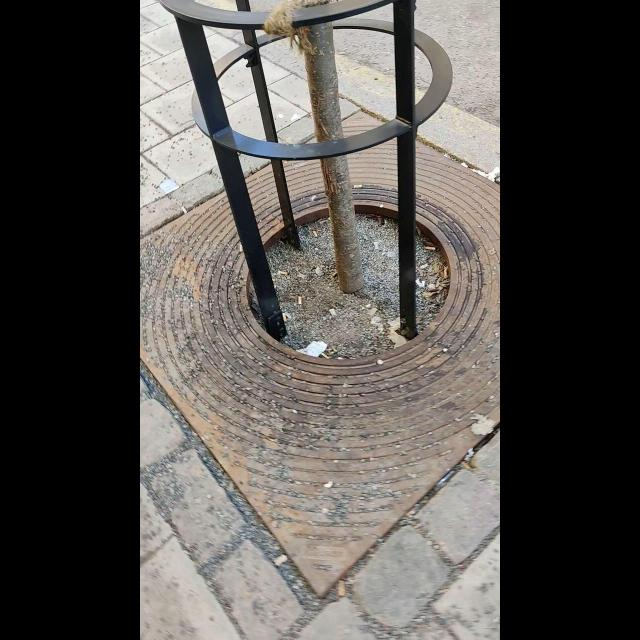cigarette: (329, 309, 338, 318), (424, 246, 436, 252), (419, 263, 431, 269), (442, 266, 448, 278), (320, 352, 330, 359), (278, 268, 288, 274), (373, 242, 380, 250), (352, 184, 362, 189), (313, 230, 319, 238), (298, 296, 302, 306), (282, 312, 286, 322)
